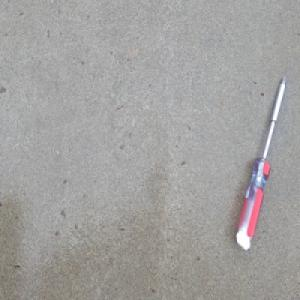Screwdriver: (234, 71, 287, 253)
